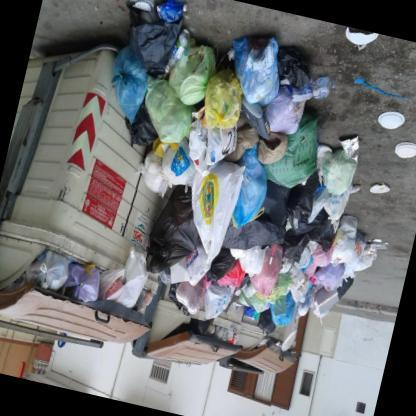Garbage: (119, 0, 393, 197), (155, 88, 364, 331), (210, 162, 384, 318), (268, 206, 410, 354), (101, 0, 206, 135), (319, 80, 415, 220), (131, 132, 201, 204), (247, 239, 288, 303), (252, 235, 289, 296), (314, 250, 354, 297), (206, 284, 238, 322), (292, 276, 314, 312)
